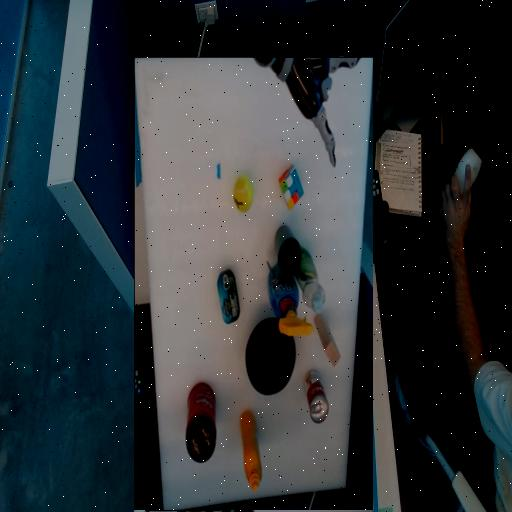bowl: (211, 174, 261, 249)
cleanser: (182, 254, 213, 319)
coffee_can: (291, 105, 320, 184)
jaco: (145, 419, 221, 468)
meat_can: (268, 245, 289, 298)
mug: (206, 303, 232, 329)
mustard_bottle: (246, 77, 266, 156)
rubik: (203, 359, 227, 401)
soup_can: (179, 145, 202, 197)
tennis_ball: (255, 357, 274, 391)
windex: (195, 244, 239, 285)
wooden_block: (167, 201, 192, 252)
workspace: (134, 58, 373, 510)
